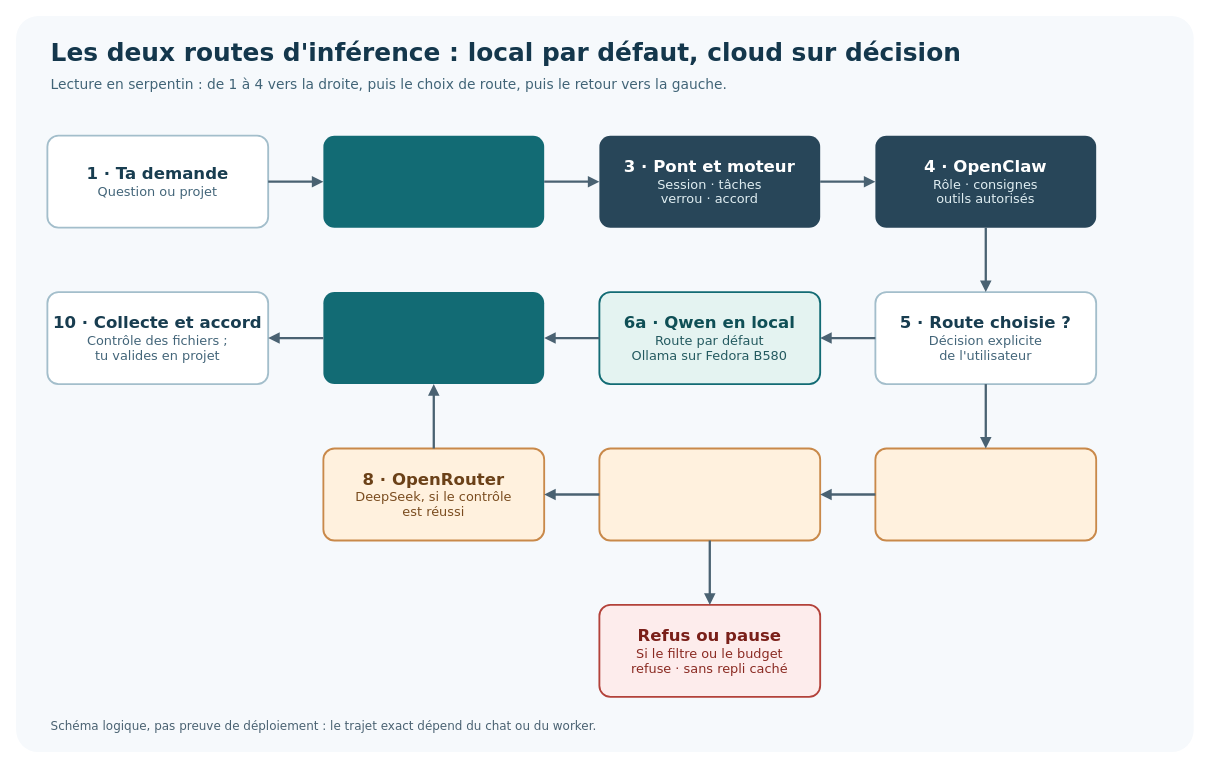
The diagram is 1209 pixels wide and 767 high, and some of its shapes have lost their labels. The centre of each missing label's shape, as x and y in pixels:
2 · Interface Open WebUI ou Atelier Projets: the point at 433,181
6b · Passerelle locale Si le cloud est activé et autorisé · port 18892: the point at 985,494
7 · Filtre et budget Secrets · consentement plafond 35 €/mois: the point at 709,494
9 · Réponse ou fichiers proposés: the point at 433,338
